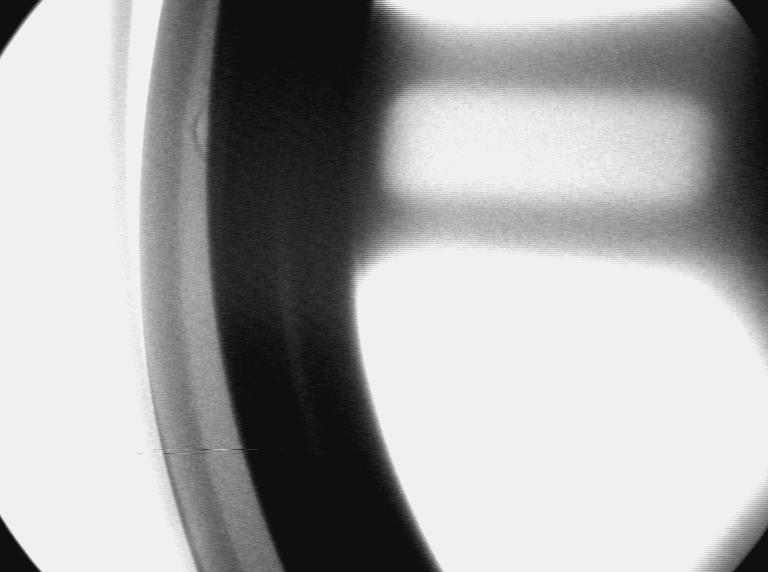defect: (191, 104, 216, 166)
